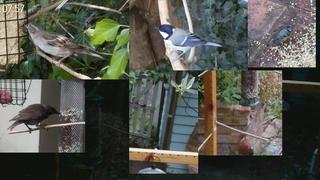blue tit: (272, 24, 292, 43)
great tit: (153, 24, 224, 64)
sparrow: (24, 22, 105, 69)
starling: (7, 103, 61, 134)
